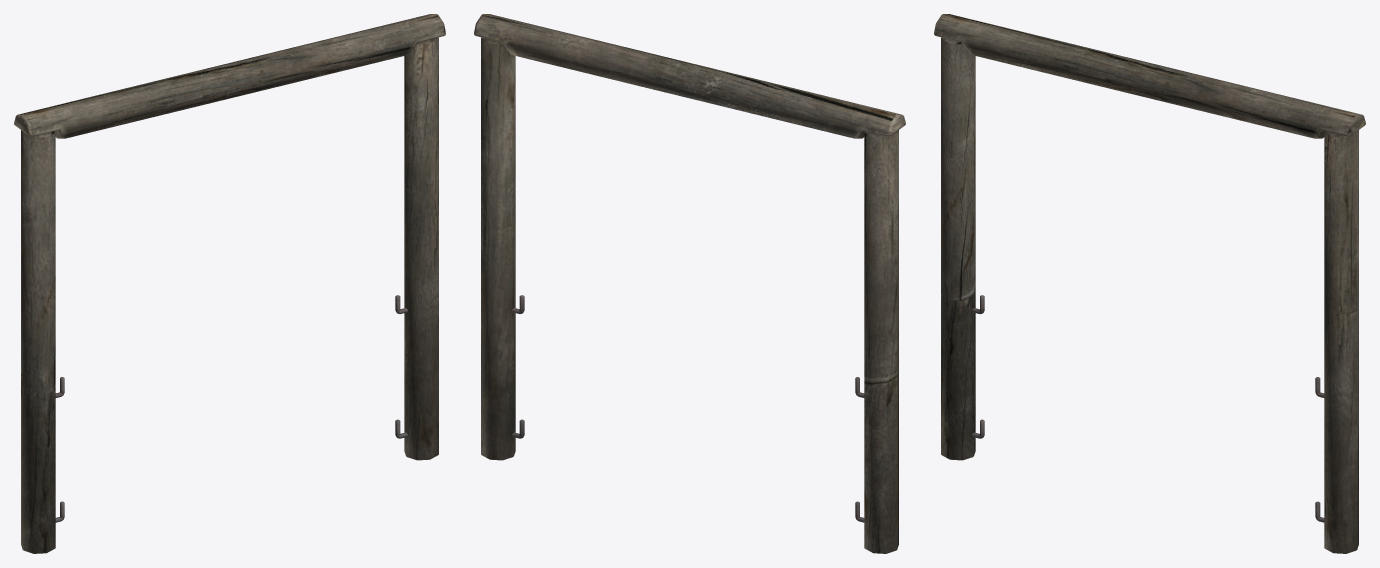
File: vh_gate.glb
3 views of the same model, side by side, from view 1: azimuth 30°, elevation 25°; view 2: azimuth 150°, elevation 25°; view 3: azimuth 330°, elevation 25° (orthographic).
Parts seen in each view (by area): view 1: gate; view 2: gate; view 3: gate.
Part boxes in pixels (left/top/right/bottom): gate: left=14, top=14, right=445, bottom=553; gate: left=474, top=14, right=905, bottom=553; gate: left=934, top=14, right=1365, bottom=553.
Bounding box in the file's own units: 3.61 × 3.6 × 0.2702.
1 material, 1 textured.
